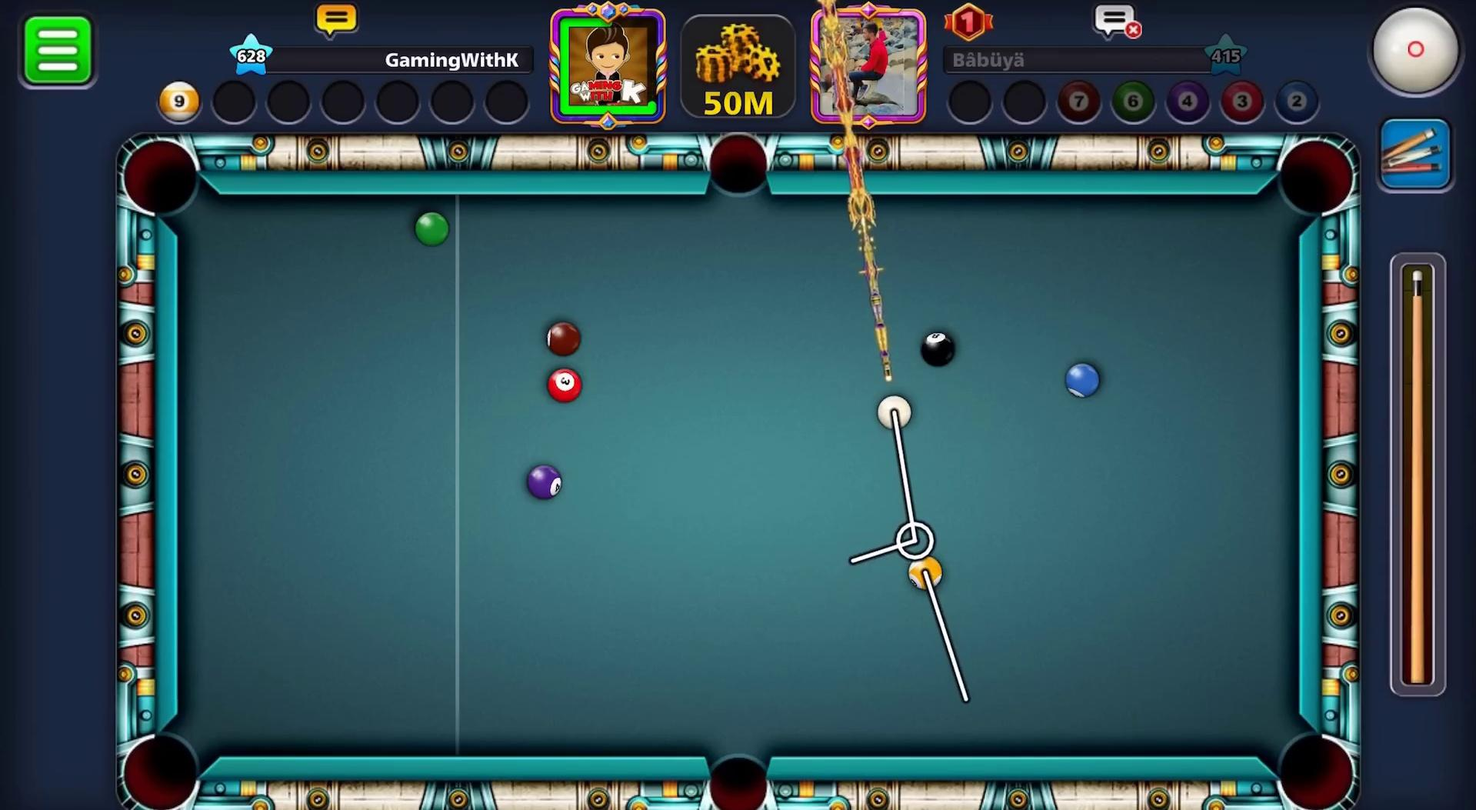Ball: (505, 452, 572, 506), (538, 356, 590, 416), (531, 315, 587, 365), (1056, 358, 1106, 406), (915, 327, 961, 372), (905, 552, 947, 599), (408, 210, 450, 249)
Force: (1386, 252, 1454, 699)
Guideline: (843, 410, 976, 703)
Hole: (102, 709, 223, 809), (1256, 711, 1371, 809), (106, 124, 210, 228), (1269, 125, 1362, 233), (688, 722, 781, 809), (701, 119, 785, 214)
Play_Area: (179, 195, 1295, 759)
Spin: (1361, 0, 1475, 111)
White: (871, 385, 916, 435)
